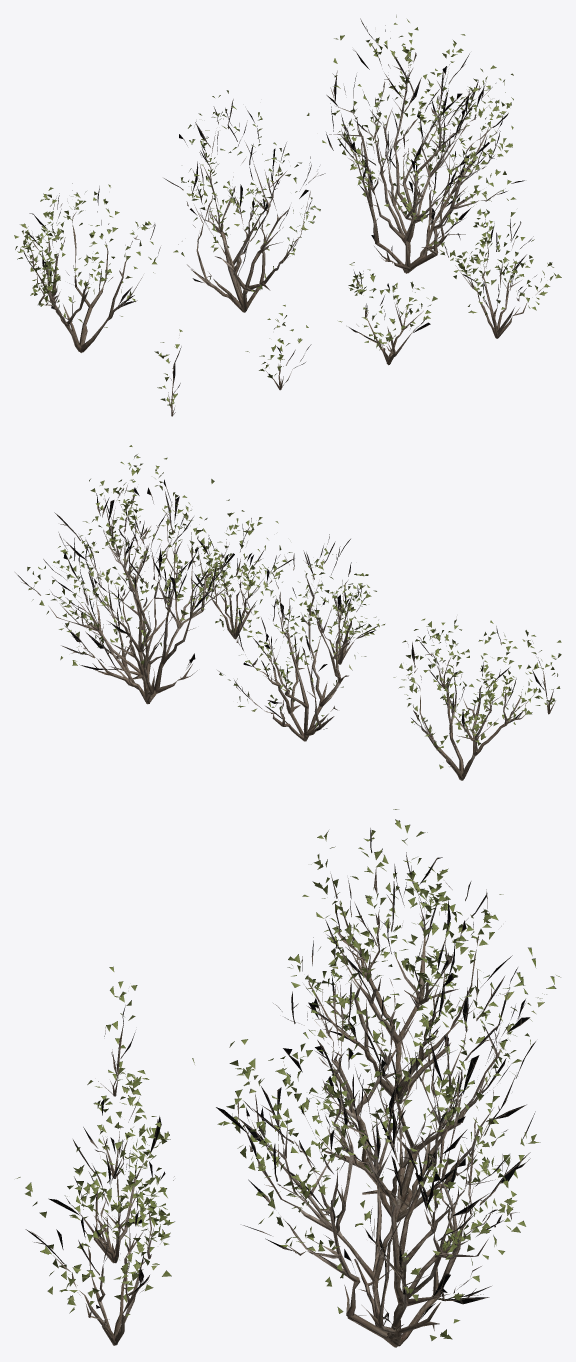
File: searsia_lucida.glb
The picture shows the model from 3 angles, top to bottom: view 1: azimuth 30°, elevation 25°; view 2: azimuth 150°, elevation 25°; view 3: azimuth 270°, elevation 25°; orthographic projection. The views are drawn at different scales.
Visible parts, largest first — view 1: searsia_lucida_a_LOD0; view 2: searsia_lucida_a_LOD0; view 3: searsia_lucida_a_LOD0.
Boxes of the visible parts, x1,y1,x2,y2 form: searsia_lucida_a_LOD0: (14, 15, 561, 416); searsia_lucida_a_LOD0: (15, 445, 561, 780); searsia_lucida_a_LOD0: (16, 809, 560, 1347).
Size of the model in its own units: 4.65 by 2.22 by 2.81.
2 materials, 2 textured.
